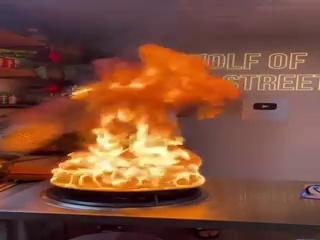Fire: (36, 59, 215, 194)
